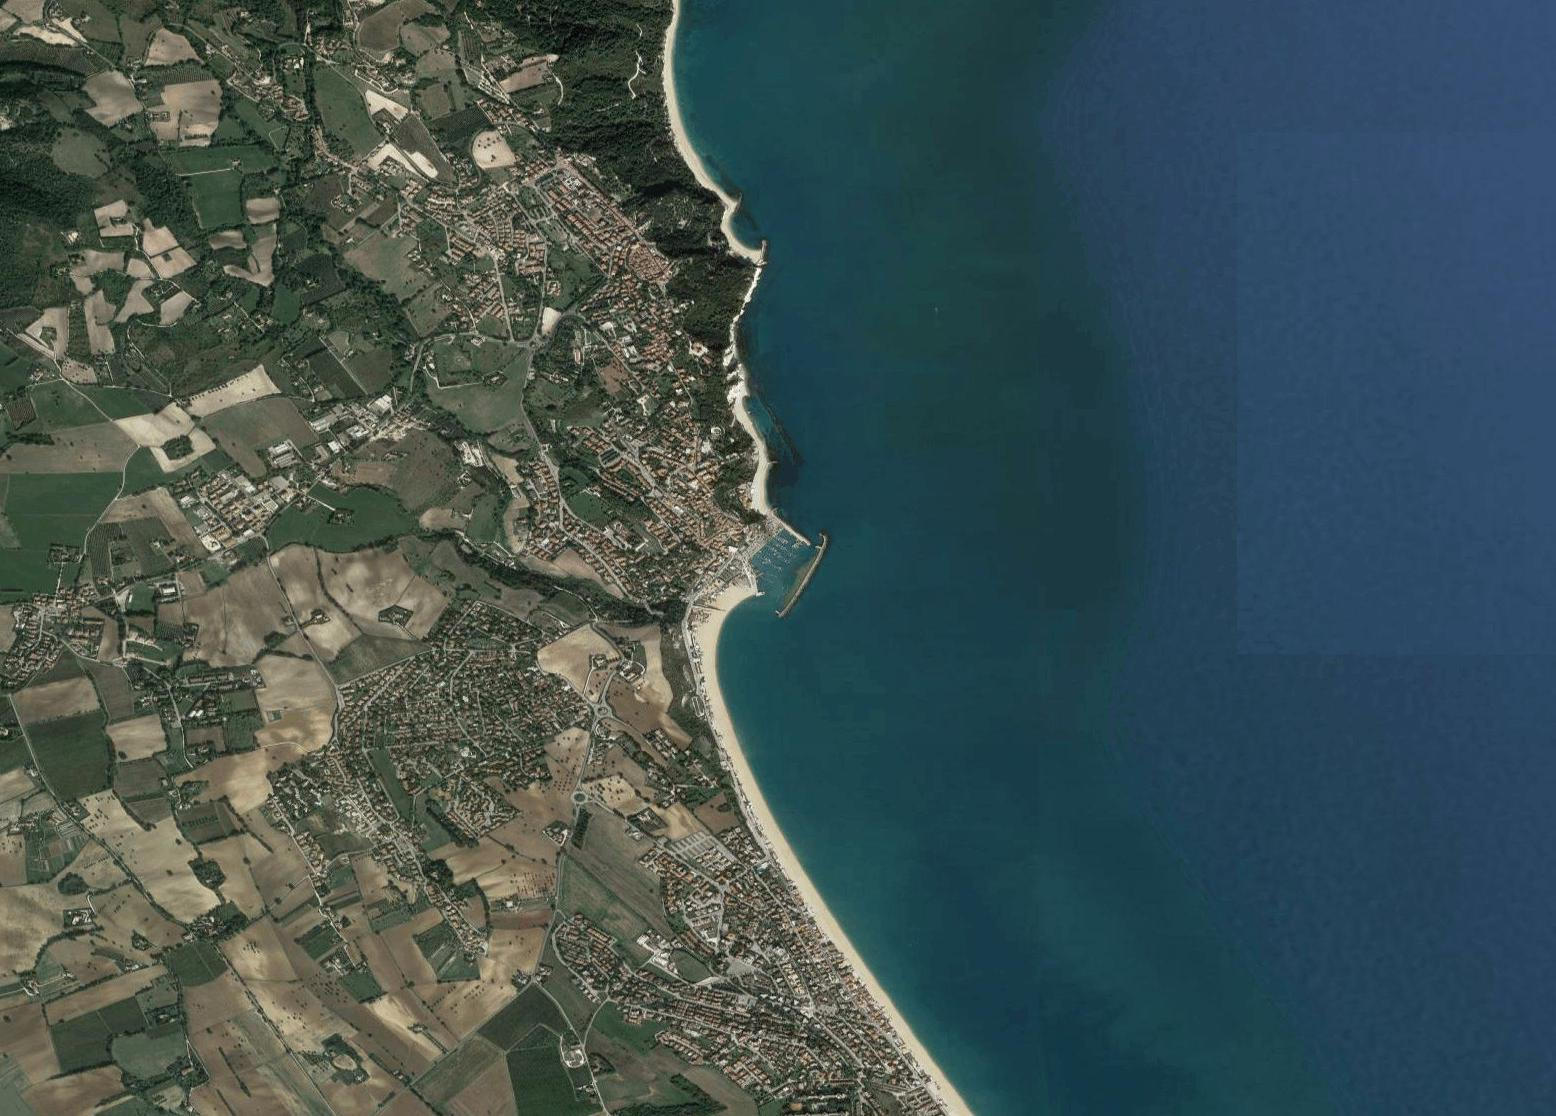harbor: (731, 513, 831, 617)
